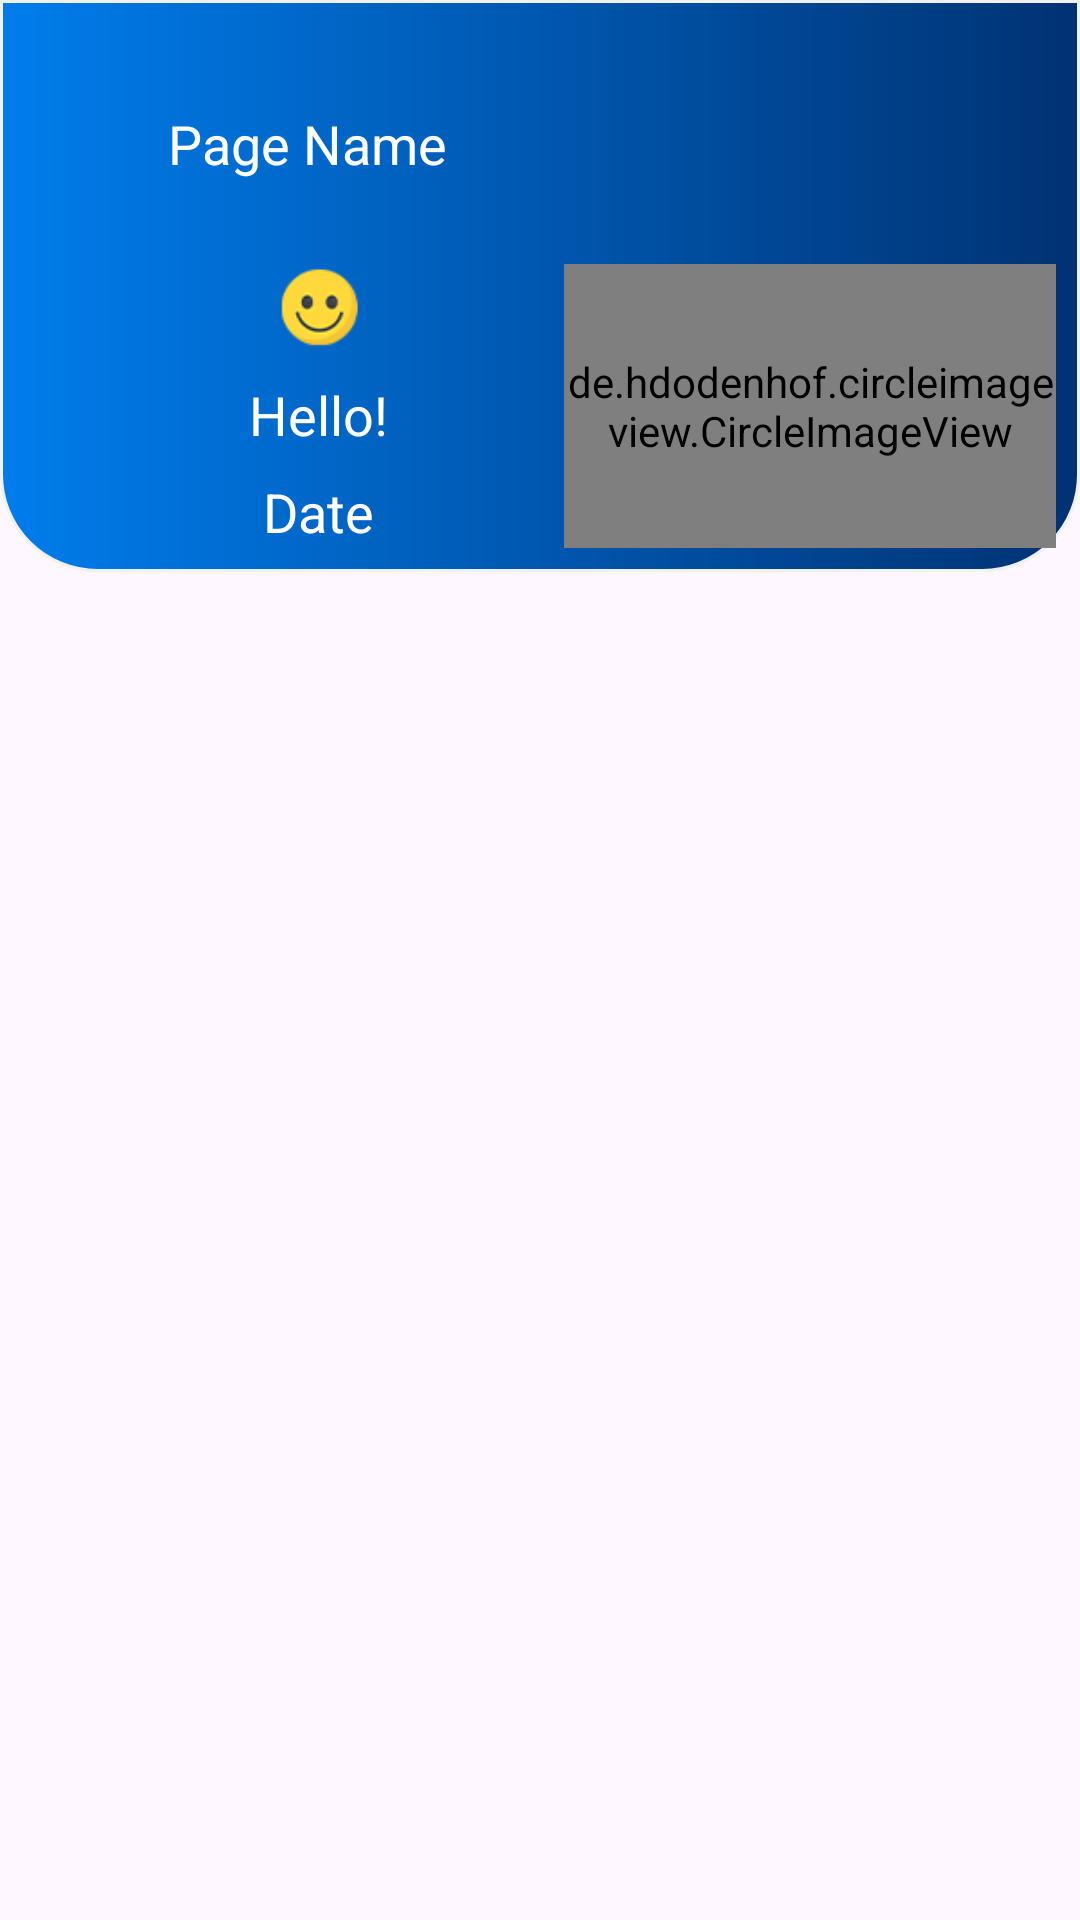

Named icons in this screenshot (1080 × 1920) and their bounding boxes, Rect(x1, y1, x2, y2):
smile: Rect(281, 269, 358, 346)
